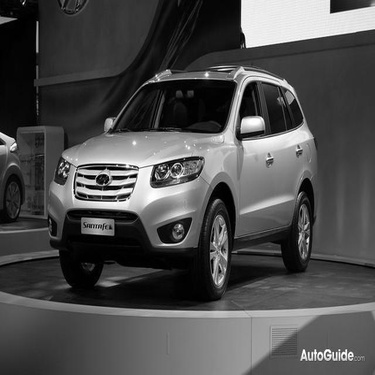car: (42, 56, 320, 307), (1, 119, 28, 229)
